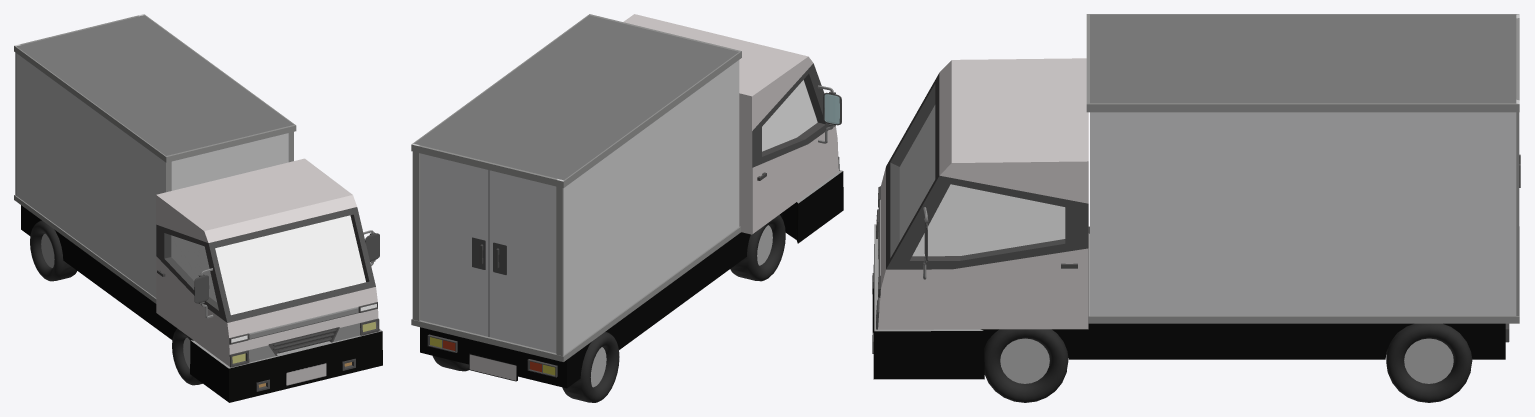
The model's file is Truck.fbx.
3 renders of one model, left to right at view 1: azimuth 30°, elevation 25°; view 2: azimuth 150°, elevation 25°; view 3: azimuth 270°, elevation 25°, orthographic. The views are drawn at different scales.
Parts seen in each view (by area): view 1: Truck_Back, Truck_front, polySurface62, polySurface60, pasted__Liscense_Plate9, SideMirror_L4, SideMirror_L3; view 2: Truck_Back, Truck_front, polySurface62, polySurface60, pasted__Liscense_Plate10, pCube34, SideMirror_L4; view 3: Truck_Back, Truck_front, polySurface61, polySurface59.
Part boxes in pixels (x1=…): Truck_Back: x1=14, y1=14, x2=296, y2=303; Truck_front: x1=21, y1=158, x2=382, y2=402; polySurface62: x1=30, y1=220, x2=76, y2=281; polySurface60: x1=172, y1=328, x2=202, y2=385; pasted__Liscense_Plate9: x1=285, y1=362, x2=326, y2=386; SideMirror_L4: x1=194, y1=274, x2=209, y2=304; SideMirror_L3: x1=365, y1=232, x2=379, y2=262; Truck_Back: x1=411, y1=14, x2=741, y2=361; Truck_front: x1=420, y1=14, x2=843, y2=388; polySurface62: x1=562, y1=331, x2=619, y2=402; polySurface60: x1=730, y1=215, x2=785, y2=281; pasted__Liscense_Plate10: x1=469, y1=353, x2=517, y2=381; pCube34: x1=427, y1=334, x2=557, y2=377; SideMirror_L4: x1=823, y1=91, x2=841, y2=126; Truck_Back: x1=1086, y1=14, x2=1519, y2=323; Truck_front: x1=872, y1=58, x2=1505, y2=379; polySurface61: x1=1386, y1=323, x2=1472, y2=402; polySurface59: x1=984, y1=329, x2=1068, y2=402.
Bounding box in the file's own units: 5.82 × 6.31 × 12.36.
16 materials, 4 textured.
